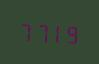nine: (63, 20, 77, 45)
one: (48, 19, 62, 44)
seven: (18, 18, 32, 43), (33, 19, 47, 43)
